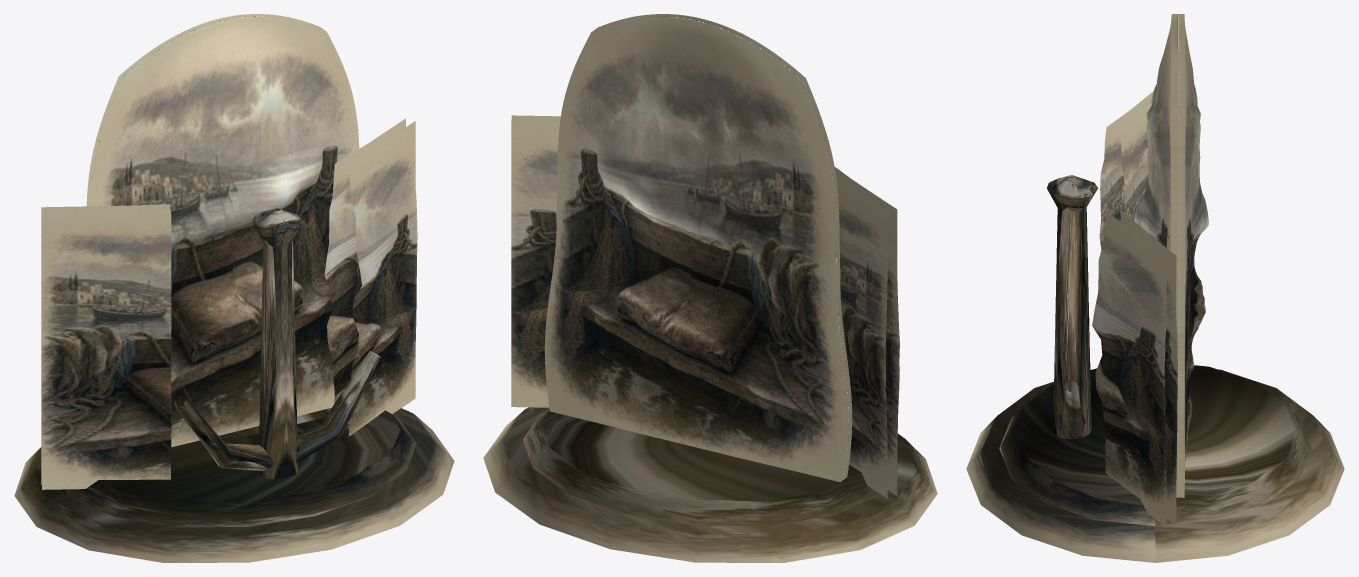
File: peace-be-still-11.glb
3 views of the same model, side by side, from view 1: azimuth 30°, elevation 25°; view 2: azimuth 150°, elevation 25°; view 3: azimuth 270°, elevation 25° (orthographic). The views are drawn at different scales.
Visible parts, largest first — view 1: PaintingSculptureMonument; view 2: PaintingSculptureMonument; view 3: PaintingSculptureMonument.
Part boxes in pixels (x1,y1,x2,y2): PaintingSculptureMonument: [14, 14, 454, 562]; PaintingSculptureMonument: [483, 14, 937, 562]; PaintingSculptureMonument: [966, 14, 1344, 562].
Size of the model in its own units: 2.76 by 2.99 by 2.35.
Materials: 1 (1 with a texture image).
